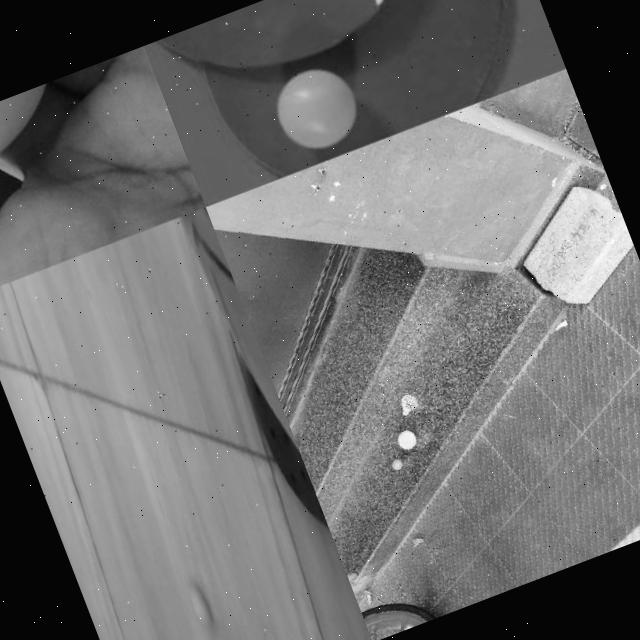ping-pong-ball: (0, 71, 94, 188), (265, 58, 366, 158), (188, 585, 216, 631), (389, 461, 404, 474)
